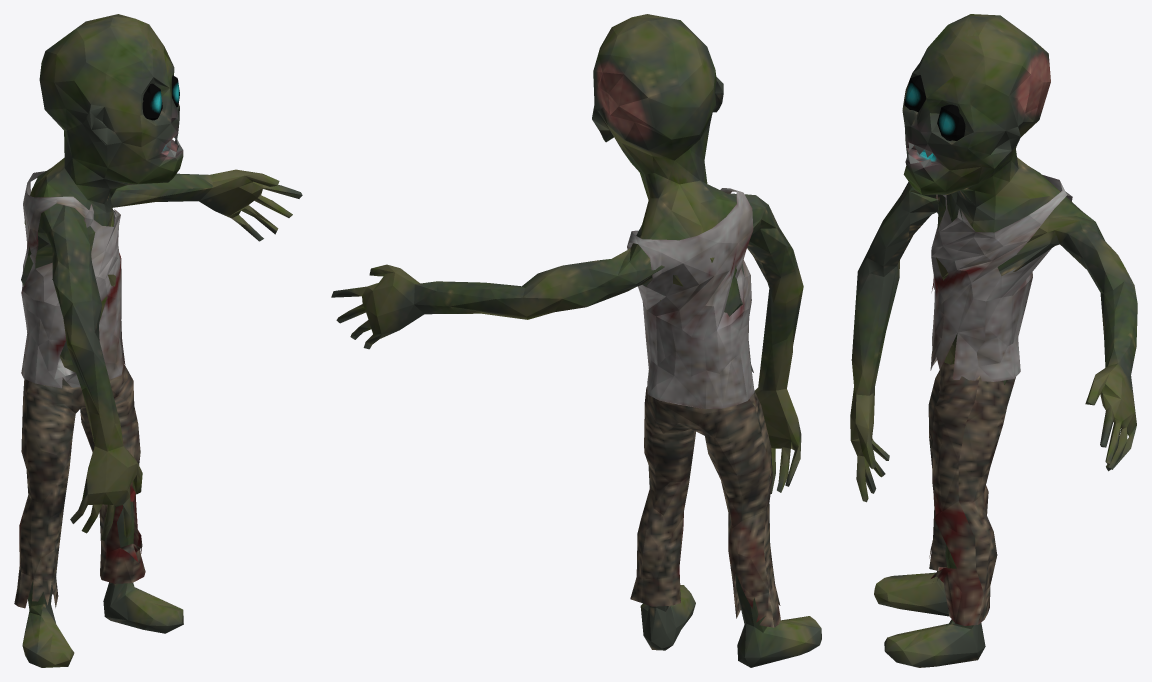
The model's file is zombie_000005.obj.
The picture shows the model from 3 angles, left to right: view 1: azimuth 30°, elevation 25°; view 2: azimuth 150°, elevation 25°; view 3: azimuth 270°, elevation 25°; orthographic projection. The views are drawn at different scales.
Visible parts, largest first — view 1: body_Mesh.001, Object001_Mesh.002, clooth_Mesh; view 2: body_Mesh.001, Object001_Mesh.002, clooth_Mesh; view 3: body_Mesh.001, Object001_Mesh.002, clooth_Mesh.
Boxes of the visible parts, x1,y1,x2,y2 form: body_Mesh.001: [21, 14, 302, 667]; Object001_Mesh.002: [14, 363, 145, 608]; clooth_Mesh: [21, 171, 125, 388]; body_Mesh.001: [331, 14, 821, 667]; Object001_Mesh.002: [630, 386, 780, 627]; clooth_Mesh: [627, 188, 754, 409]; body_Mesh.001: [850, 14, 1137, 667]; Object001_Mesh.002: [928, 361, 1015, 625]; clooth_Mesh: [930, 174, 1072, 381].
Size of the model in its own units: 0.2528 by 0.3939 by 0.1606.
2 materials, 2 textured.
